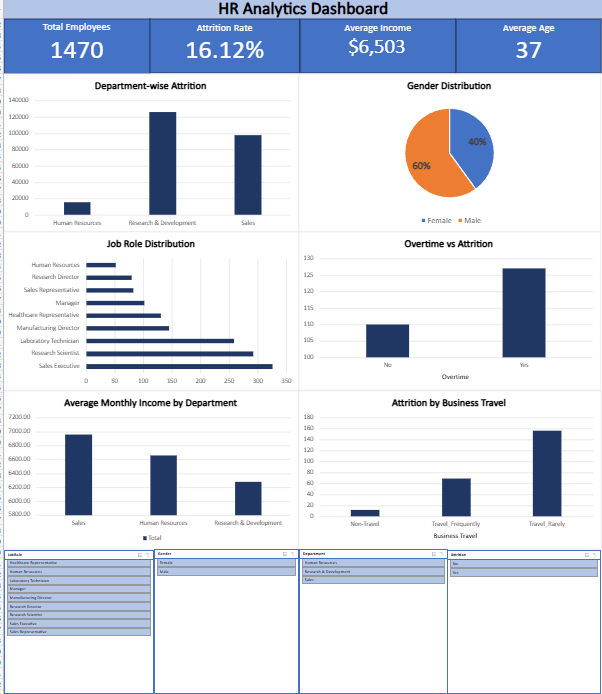

The page's visual inventory and layout, read from the dashboard file:
{"tool":"powerbi","page":{"name":"Page 1","canvas":[1280,720],"ordinal":0},"visuals":[{"type":"textbox","box":[9.7,0,1270.3,81.7],"z":0},{"type":"cardVisual","fields":{"Data":["in.Total Employee"]},"box":[1,81.7,228.6,134.2],"z":1},{"type":"cardVisual","fields":{"Data":["in.Average Age"]},"box":[1050.5,72.9,229.5,143],"z":2},{"type":"cardVisual","fields":{"Data":["in.Attrition Rate"]},"box":[718.8,72.9,229.5,143],"z":3},{"type":"cardVisual","fields":{"Data":["in.Average Monthly Income"]},"box":[343.3,81.7,228.6,134.2],"z":4},{"type":"columnChart","title":"Department-wise Attrition","fields":{"Category":["in.Department"],"Y":["in.Employees Left"]},"box":[231.5,215.9,352.1,248],"z":5},{"type":"donutChart","title":"Gender Distribution","fields":{"Category":["in.Gender"],"Y":["CountNonNull(in.Gender)"]},"box":[600.1,215.9,317.1,225.7],"z":6},{"type":"clusteredBarChart","title":"Job Role Distribution","fields":{"Category":["in.JobRole"],"Y":["Count(in.EmployeeNumber)"]},"box":[917.2,215.9,362.8,225.7],"z":7},{"type":"columnChart","title":"Overtime Vs Attrition","fields":{"Category":["in.OverTime"],"Y":["in.Employees Left"]},"box":[583.6,441.6,333.6,278.2],"z":8},{"type":"columnChart","fields":{"Category":["in.Department"],"Y":["in.Average Income"]},"box":[242.2,464,341.4,255.8],"z":9},{"type":"clusteredColumnChart","title":"Business Travel Vs Attrition","fields":{"Category":["in.BusinessTravel"],"Y":["in.Employees Left"]},"box":[917.2,441.6,362.8,278.2],"z":10},{"type":"slicer","fields":{"Values":["in.Department"]},"box":[0,215.9,230.5,112.8],"z":11},{"type":"slicer","fields":{"Values":["in.BusinessTravel"]},"box":[1,328.8,230.5,112.8],"z":12},{"type":"slicer","fields":{"Values":["in.Gender"]},"box":[0,441.6,229.5,112.8],"z":13},{"type":"slicer","fields":{"Values":["in.JobRole"]},"box":[0,537.9,229.5,181.9],"z":14}]}

Visuals, with their boxes on the page's 1280x720 design canvas (x1, y1, x2, y2). These are canvas units, not pixel positions in the 602x694 screenshot, which may show the page scaled, cropped or inside an application window:
textbox: bbox=(10, 0, 1280, 82)
cardVisual - in.Total Employee: bbox=(1, 82, 230, 216)
cardVisual - in.Average Age: bbox=(1050, 73, 1280, 216)
cardVisual - in.Attrition Rate: bbox=(719, 73, 948, 216)
cardVisual - in.Average Monthly Income: bbox=(343, 82, 572, 216)
"Department-wise Attrition" columnChart: bbox=(232, 216, 584, 464)
"Gender Distribution" donutChart: bbox=(600, 216, 917, 442)
"Job Role Distribution" clusteredBarChart: bbox=(917, 216, 1280, 442)
"Overtime Vs Attrition" columnChart: bbox=(584, 442, 917, 720)
columnChart - in.Department x in.Average Income: bbox=(242, 464, 584, 720)
"Business Travel Vs Attrition" clusteredColumnChart: bbox=(917, 442, 1280, 720)
slicer - in.Department: bbox=(0, 216, 230, 329)
slicer - in.BusinessTravel: bbox=(1, 329, 232, 442)
slicer - in.Gender: bbox=(0, 442, 230, 554)
slicer - in.JobRole: bbox=(0, 538, 230, 720)
